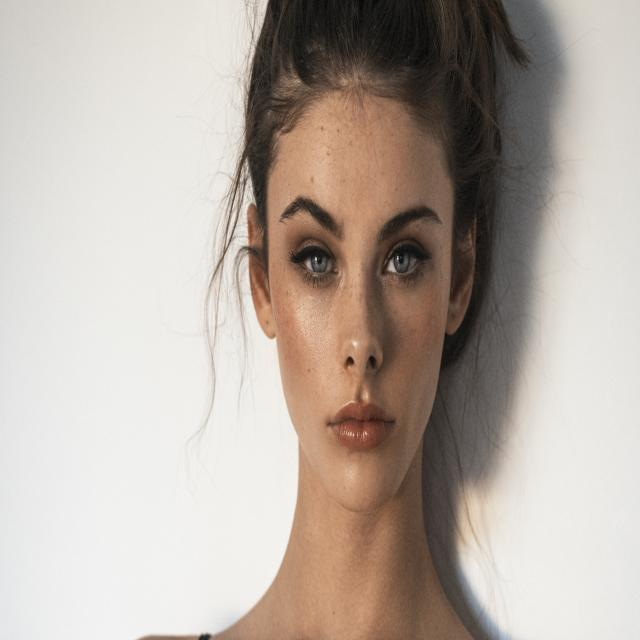earlobe: (446, 195, 478, 337), (246, 203, 276, 341)
